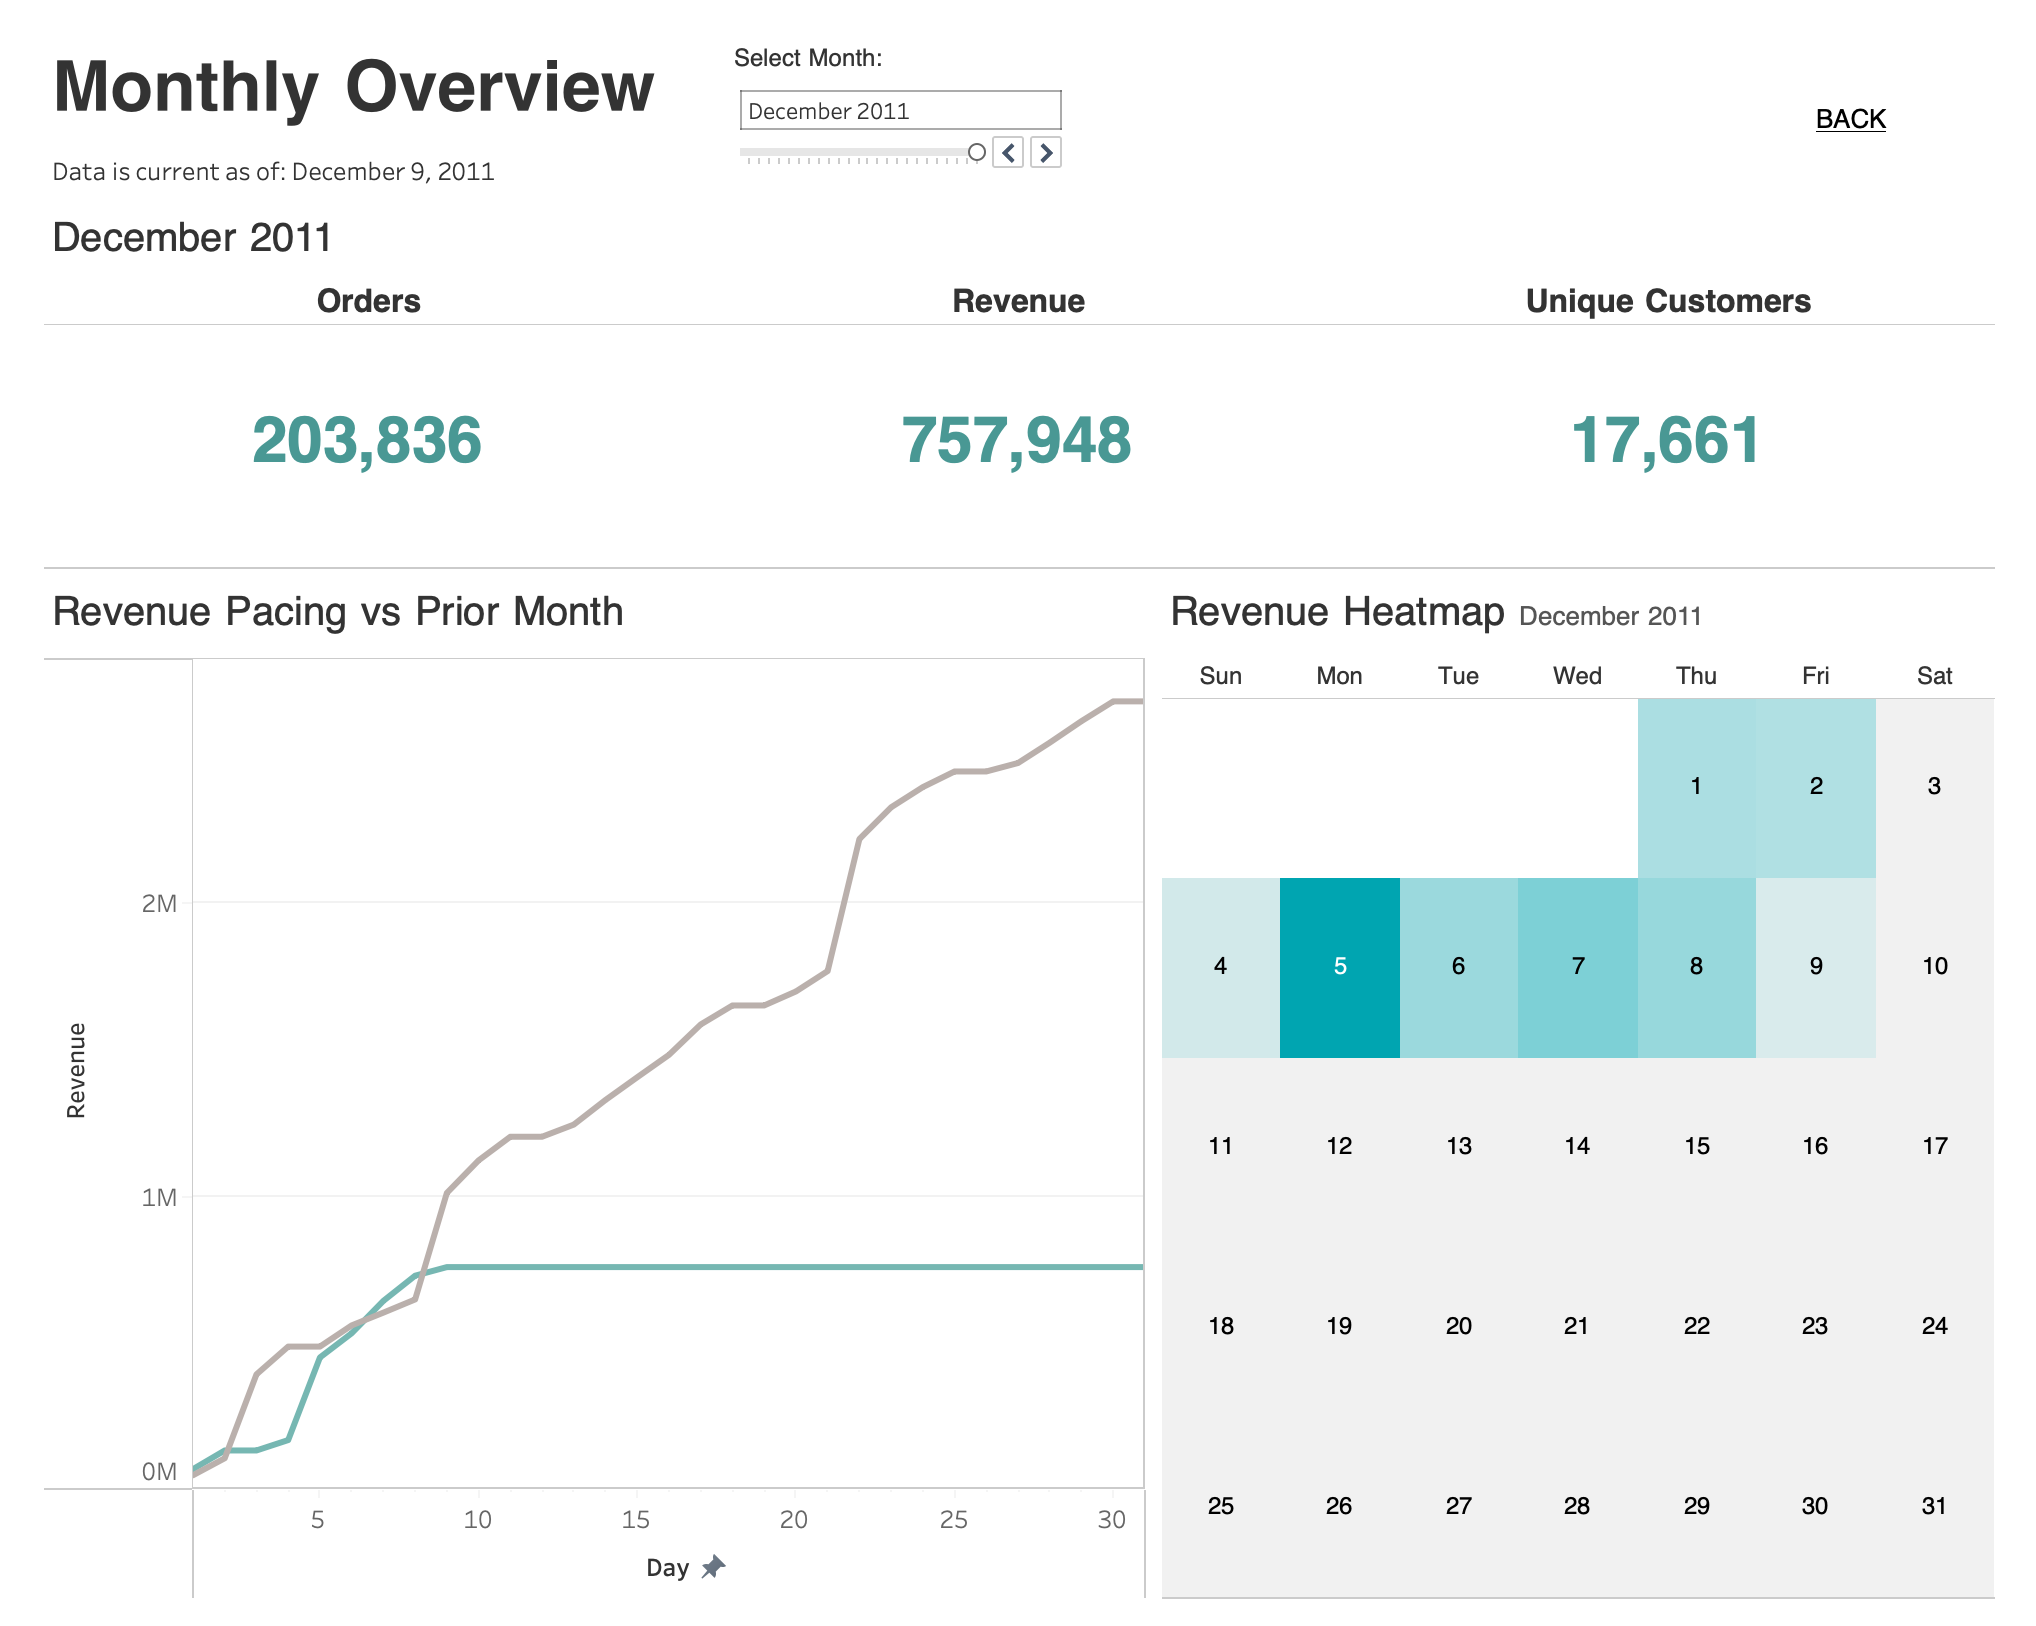

What the dashboard file says about the page in this screenshot:
{"tool":"tableau","page":{"name":"Monthly Dashboard","canvas":[1000,800],"ordinal":2},"visuals":[{"type":"worksheet","title":"Month Title","mark":"Automatic","box":[8,8,345,80]},{"type":"parameter","param":"[Parameters].[Parameter 3]","box":[353,8,175,82]},{"type":"blank","box":[528,8,312,82]},{"type":"dashboard-object","box":[840,8,152,82]},{"type":"worksheet","title":"Monthly KPI","mark":"Automatic","box":[8,90,984,187]},{"type":"worksheet","title":"Monthly Revenue Pacing","mark":"Automatic","cols":["Invoice Date (copy)_4229091175109091350"],"box":[8,277,559,515]},{"type":"worksheet","title":"Revenue Heatmap Calendar","mark":"Square","rows":["day"],"cols":["day"],"box":[567,277,425,515]}]}

Visuals, with their boxes in screenshot pixels (x1, y1, x2, y2), scaled from the page's 1000x800 canvas onto the 2036x1626 screenshot:
"Month Title" worksheet: box=[16, 16, 719, 179]
parameter: box=[719, 16, 1075, 183]
blank: box=[1075, 16, 1710, 183]
dashboard-object: box=[1710, 16, 2020, 183]
"Monthly KPI" worksheet: box=[16, 183, 2020, 563]
"Monthly Revenue Pacing" worksheet: box=[16, 563, 1154, 1610]
"Revenue Heatmap Calendar" worksheet (Square marks): box=[1154, 563, 2020, 1610]
